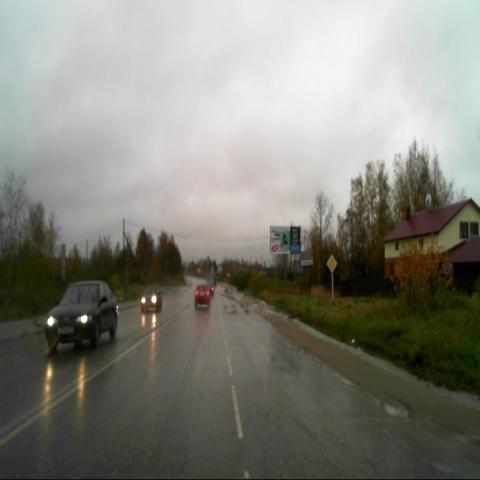2_1: (326, 252, 338, 272)
